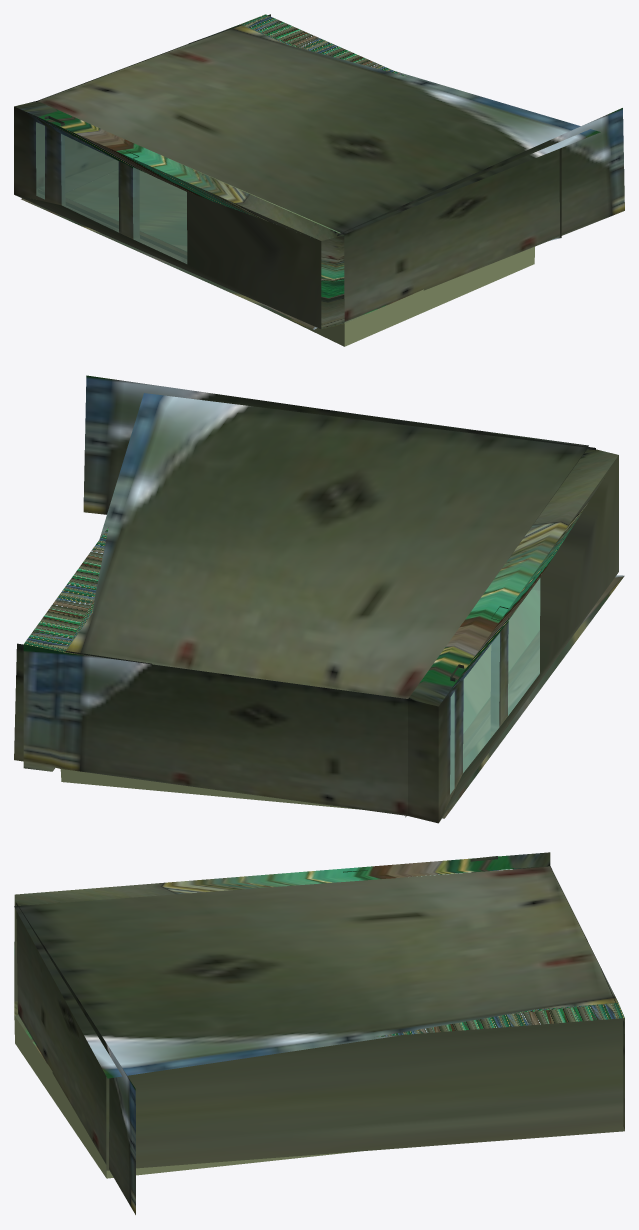
File: liminal-other-space.glb
3 views of the same model, one above another, from view 1: azimuth 30°, elevation 25°; view 2: azimuth 150°, elevation 25°; view 3: azimuth 270°, elevation 25° (orthographic). The views are drawn at different scales.
Parts seen in each view (by area): view 1: Object_6, Object_2, Object_4, Object_3; view 2: Object_6, Object_2, Object_3, Object_4; view 3: Object_6, Object_2, Object_4.
Part boxes in pixels (x1=…): Object_6: x1=14, y1=14, x2=624, y2=329; Object_2: x1=15, y1=148, x2=561, y2=329; Object_4: x1=66, y1=169, x2=534, y2=346; Object_3: x1=36, y1=122, x2=187, y2=263; Object_6: x1=14, y1=375, x2=618, y2=823; Object_2: x1=52, y1=455, x2=624, y2=820; Object_3: x1=450, y1=578, x2=540, y2=794; Object_4: x1=60, y1=580, x2=539, y2=809; Object_6: x1=14, y1=852, x2=624, y2=1214; Object_2: x1=14, y1=908, x2=624, y2=1170; Object_4: x1=14, y1=1015, x2=359, y2=1178.
Size of the model in its own units: 43.8 by 11.73 by 43.63.
5 materials, 3 textured.
